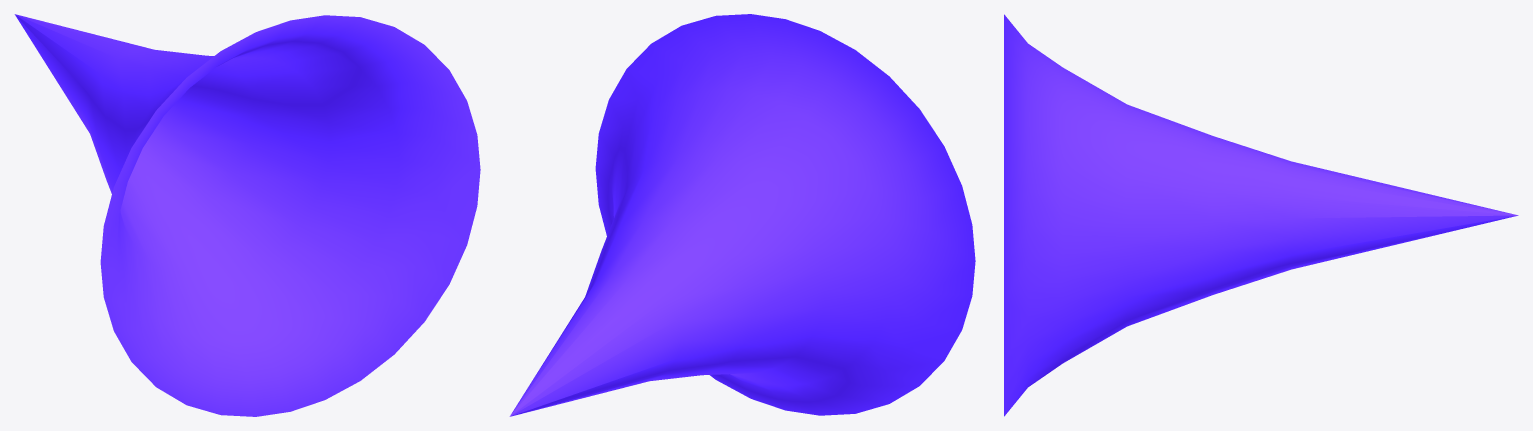
The model's file is superficie.fbx.
3 views of the same model, side by side, from view 1: azimuth 30°, elevation 25°; view 2: azimuth 150°, elevation 25°; view 3: azimuth 270°, elevation 25° (orthographic). The views are drawn at different scales.
Parts seen in each view (by area): view 1: polySurface13; view 2: polySurface13; view 3: polySurface13.
Part boxes in pixels (box(x1,y1,x2,y2)): polySurface13: box(14, 14, 480, 416); polySurface13: box(509, 14, 975, 416); polySurface13: box(1004, 14, 1518, 416).
Bounding box in the file's own units: 21.94 × 21.59 × 27.61.
